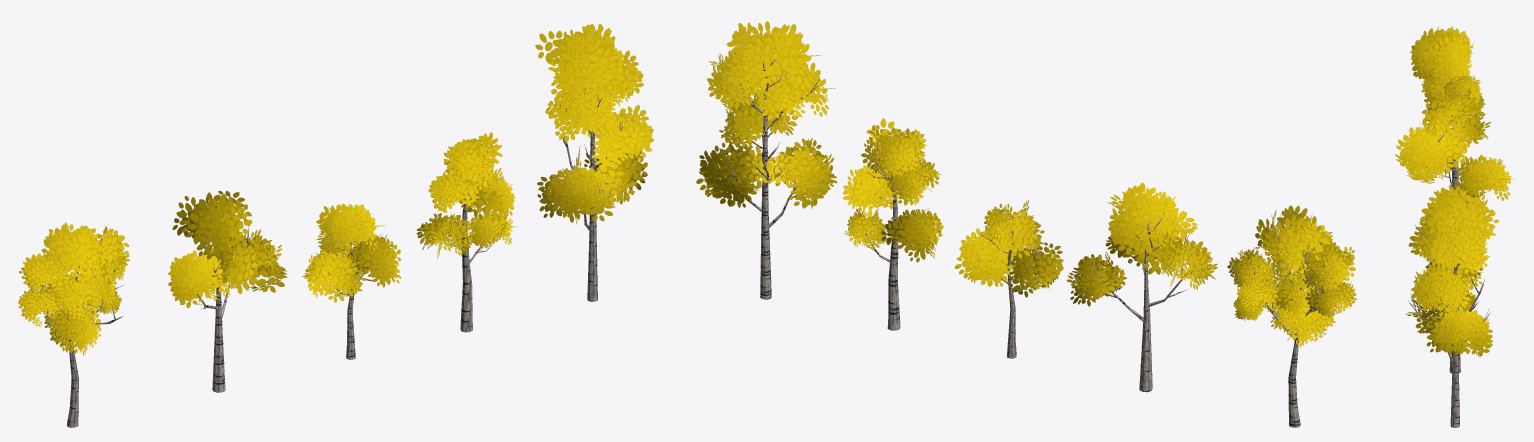
File: birch.glb
3 renders of one model, left to right at view 1: azimuth 30°, elevation 25°; view 2: azimuth 150°, elevation 25°; view 3: azimuth 270°, elevation 25°, orthographic. The views are drawn at different scales.
Parts seen in each view (by area): view 1: BirchTree_2, BirchTree_3, BirchTree_5, BirchTree_1, BirchTree_4; view 2: BirchTree_2, BirchTree_3, BirchTree_5, BirchTree_1, BirchTree_4; view 3: BirchTree_2, BirchTree_5, BirchTree_3, BirchTree_1.
Part boxes in pixels (x1,y1,x2,y2): BirchTree_2: [535, 24, 654, 301]; BirchTree_3: [18, 222, 129, 427]; BirchTree_5: [168, 190, 287, 392]; BirchTree_1: [416, 132, 516, 332]; BirchTree_4: [302, 203, 401, 359]; BirchTree_2: [696, 21, 837, 299]; BirchTree_3: [1227, 205, 1356, 427]; BirchTree_5: [1066, 182, 1217, 392]; BirchTree_1: [842, 118, 943, 330]; BirchTree_4: [954, 200, 1063, 358]; BirchTree_2: [1406, 184, 1498, 427]; BirchTree_5: [1395, 87, 1514, 201]; BirchTree_3: [1410, 26, 1484, 185]; BirchTree_1: [1419, 206, 1483, 373].
Size of the model in its own units: 18.84 by 7.75 by 3.8.
Materials: 2 (2 with a texture image).
